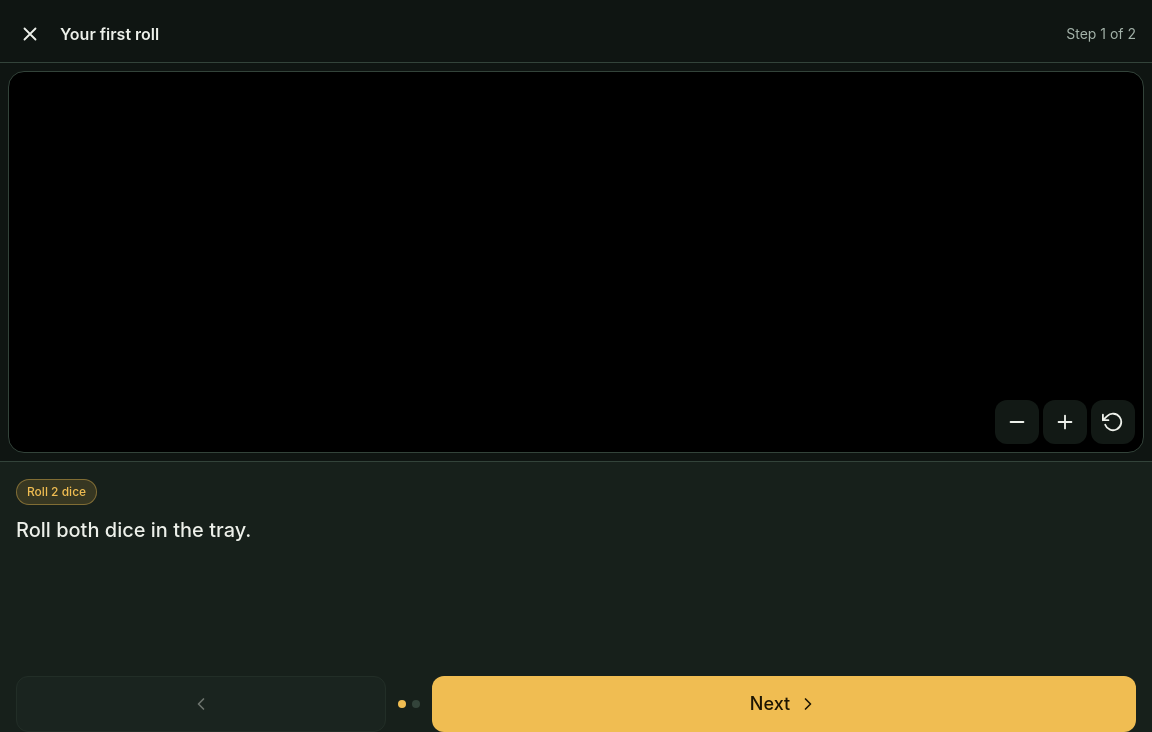
Test: story mode › walks through steps with annotations and a Try-it check
Later steps or results of the test are not shown.
expect the text with test id "story-text" reads "Roll both dice in the tray.": met, box 16,518 -> 251,542
expect the text "Step 1 of 2" is shown: met, box 1066,24 -> 1144,44
Click the button "Next": (784, 704) 432,676 -> 1136,731
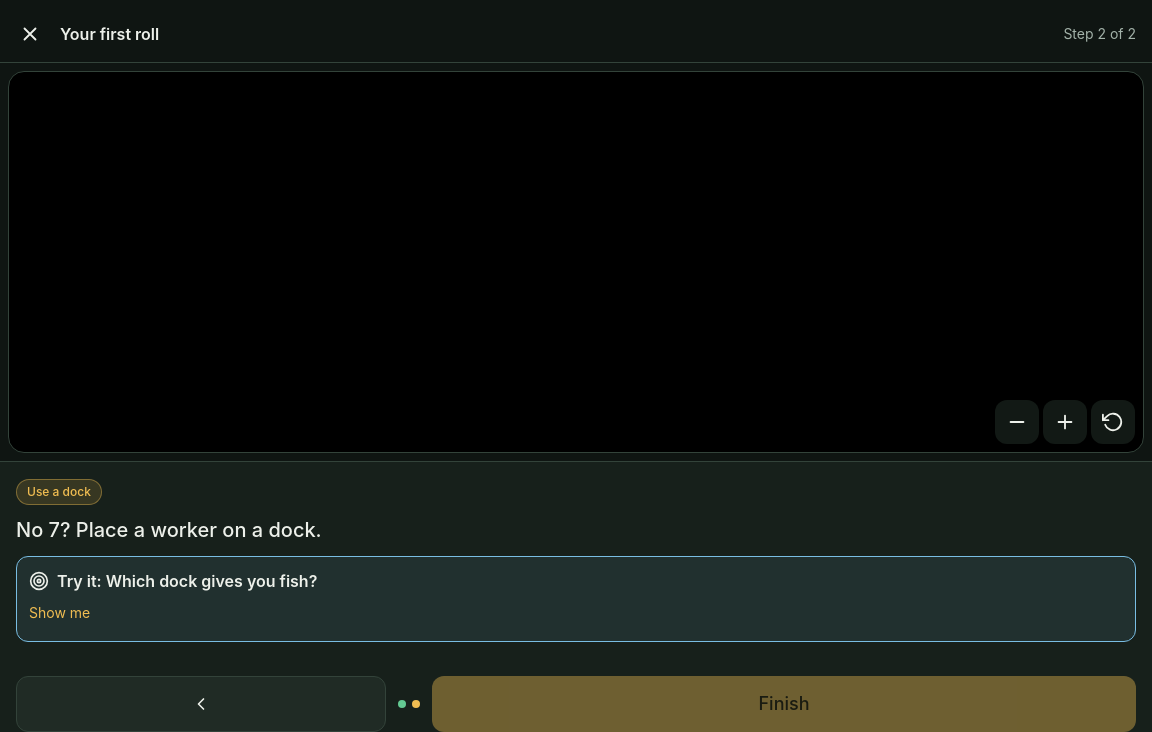
expect the text "Step 2 of 2" is shown: met, box 1063,24 -> 1144,44
expect the text "Which dock gives you fish?" is shown: met, box 106,571 -> 317,591
expect the button "Finish" is disabled: met, box 432,676 -> 1136,731
